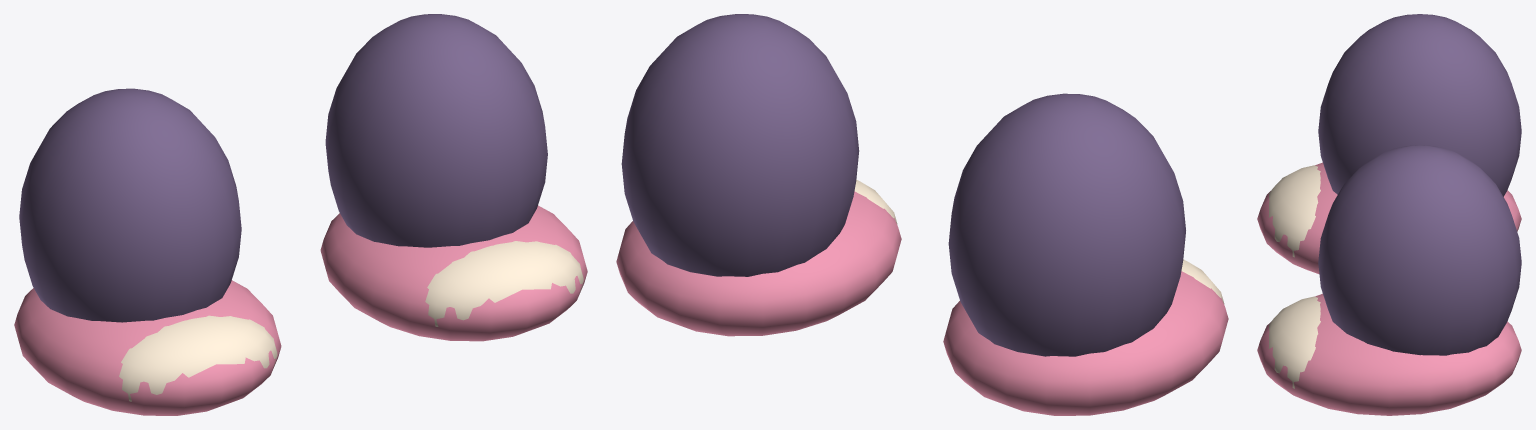
File: legs-stompy.glb
The picture shows the model from 3 angles, left to right: view 1: azimuth 30°, elevation 25°; view 2: azimuth 150°, elevation 25°; view 3: azimuth 270°, elevation 25°; orthographic projection. The views are drawn at different scales.
Parts seen in each view (by area): view 1: CMP_Critter_Legs_Stompy_Leg_L, CMP_Critter_Legs_Stompy_Leg_R, CMP_Critter_Legs_Stompy_Shoe_R, CMP_Critter_Legs_Stompy_Shoe_L, CMP_Critter_Legs_Stompy_Toe_R, CMP_Critter_Legs_Stompy_Toe_L; view 2: CMP_Critter_Legs_Stompy_Leg_R, CMP_Critter_Legs_Stompy_Leg_L, CMP_Critter_Legs_Stompy_Shoe_R, CMP_Critter_Legs_Stompy_Shoe_L; view 3: CMP_Critter_Legs_Stompy_Leg_R, CMP_Critter_Legs_Stompy_Leg_L, CMP_Critter_Legs_Stompy_Shoe_R, CMP_Critter_Legs_Stompy_Toe_L, CMP_Critter_Legs_Stompy_Toe_R, CMP_Critter_Legs_Stompy_Shoe_L.
Part boxes in pixels (left/top/right/bottom): CMP_Critter_Legs_Stompy_Leg_L: left=19, top=88, right=241, bottom=322; CMP_Critter_Legs_Stompy_Leg_R: left=325, top=14, right=547, bottom=247; CMP_Critter_Legs_Stompy_Shoe_R: left=320, top=205, right=587, bottom=341; CMP_Critter_Legs_Stompy_Shoe_L: left=14, top=280, right=281, bottom=415; CMP_Critter_Legs_Stompy_Toe_R: left=425, top=241, right=583, bottom=326; CMP_Critter_Legs_Stompy_Toe_L: left=119, top=315, right=277, bottom=401; CMP_Critter_Legs_Stompy_Leg_R: left=621, top=14, right=859, bottom=276; CMP_Critter_Legs_Stompy_Leg_L: left=948, top=93, right=1185, bottom=356; CMP_Critter_Legs_Stompy_Shoe_R: left=616, top=191, right=901, bottom=336; CMP_Critter_Legs_Stompy_Shoe_L: left=943, top=271, right=1228, bottom=415; CMP_Critter_Legs_Stompy_Leg_R: left=1318, top=145, right=1521, bottom=355; CMP_Critter_Legs_Stompy_Leg_L: left=1318, top=14, right=1521, bottom=196; CMP_Critter_Legs_Stompy_Shoe_R: left=1257, top=293, right=1521, bottom=415; CMP_Critter_Legs_Stompy_Toe_L: left=1268, top=165, right=1320, bottom=257; CMP_Critter_Legs_Stompy_Toe_R: left=1268, top=296, right=1320, bottom=388; CMP_Critter_Legs_Stompy_Shoe_L: left=1257, top=162, right=1521, bottom=273.
Bounding box in the file's own units: 2.1 × 1.06 × 1.04.
